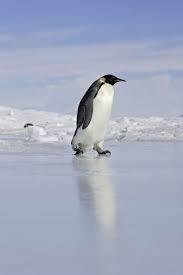emporer: (66, 69, 143, 179)
